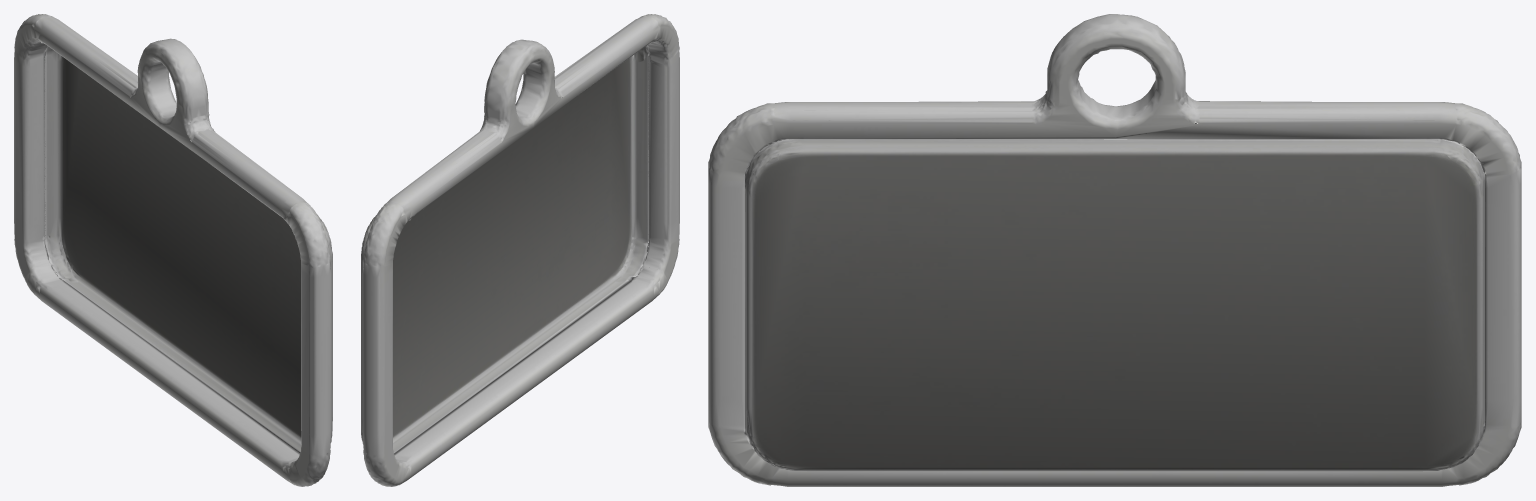
The model's file is tag.glb.
3 views of the same model, side by side, from view 1: azimuth 30°, elevation 25°; view 2: azimuth 150°, elevation 25°; view 3: azimuth 270°, elevation 25° (orthographic). The views are drawn at different scales.
Parts seen in each view (by area): view 1: tripo_node_523368c3-3abb-460d-8f89-3a07ffc10598; view 2: tripo_node_523368c3-3abb-460d-8f89-3a07ffc10598; view 3: tripo_node_523368c3-3abb-460d-8f89-3a07ffc10598.
Part boxes in pixels (<box>): tripo_node_523368c3-3abb-460d-8f89-3a07ffc10598: <box>14,14,332,486</box>; tripo_node_523368c3-3abb-460d-8f89-3a07ffc10598: <box>361,14,679,486</box>; tripo_node_523368c3-3abb-460d-8f89-3a07ffc10598: <box>708,14,1521,486</box>.
Size of the model in its own units: 0.0115 by 0.1 by 0.1582.
1 material, 1 textured.
